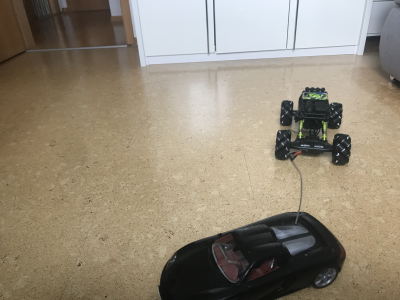remote control car: (273, 84, 352, 169)
